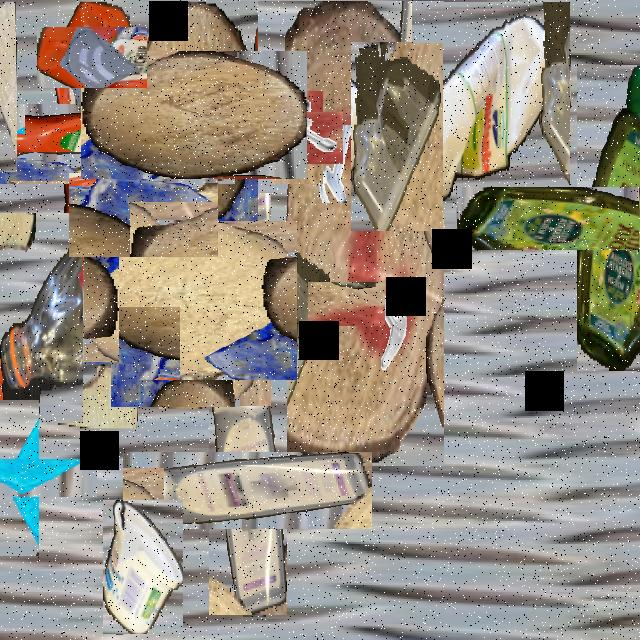glass: (85, 157, 202, 273), (49, 14, 135, 100), (0, 429, 68, 526), (111, 82, 167, 181)
metal: (261, 102, 333, 175), (316, 274, 376, 334)
plastic: (412, 2, 570, 215), (2, 53, 184, 235), (166, 409, 330, 572), (516, 126, 640, 310), (0, 213, 83, 423), (351, 43, 443, 231), (103, 500, 183, 634)
wood: (240, 1, 444, 468), (98, 207, 284, 394), (105, 27, 283, 204), (47, 364, 137, 428), (0, 2, 17, 172)
